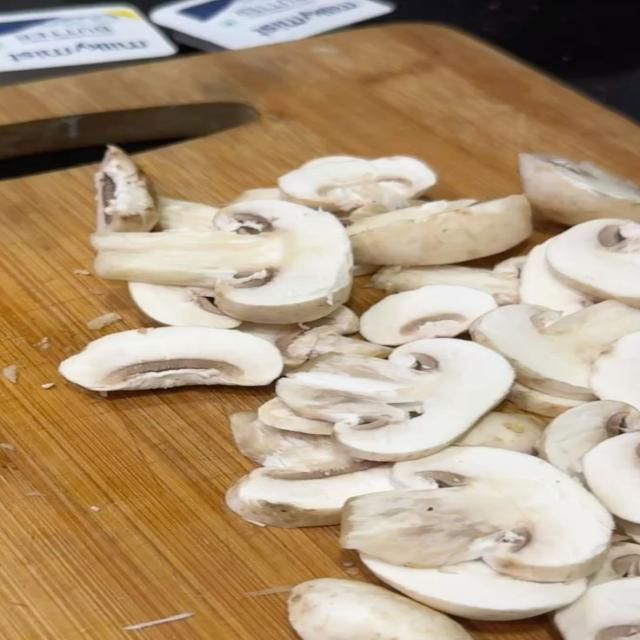champignon mushrooms: (341, 447, 613, 582), (93, 201, 352, 323), (334, 339, 513, 460), (214, 201, 353, 323), (470, 301, 639, 399), (361, 554, 586, 620), (60, 327, 282, 391), (347, 196, 531, 265), (276, 354, 433, 427), (92, 229, 285, 287), (288, 579, 471, 639), (227, 461, 390, 527), (240, 307, 391, 369), (279, 157, 436, 211), (520, 154, 639, 225), (360, 285, 497, 345), (547, 219, 639, 306), (540, 401, 639, 480), (229, 412, 355, 473), (371, 266, 519, 304), (95, 146, 158, 231), (242, 306, 359, 351), (520, 243, 594, 314), (582, 432, 639, 523), (554, 578, 639, 639), (129, 283, 240, 328), (283, 330, 391, 367), (455, 412, 544, 454), (591, 332, 639, 407), (258, 398, 333, 435), (507, 383, 587, 417), (589, 542, 639, 586), (157, 198, 219, 231), (233, 188, 286, 203), (617, 519, 639, 544)
